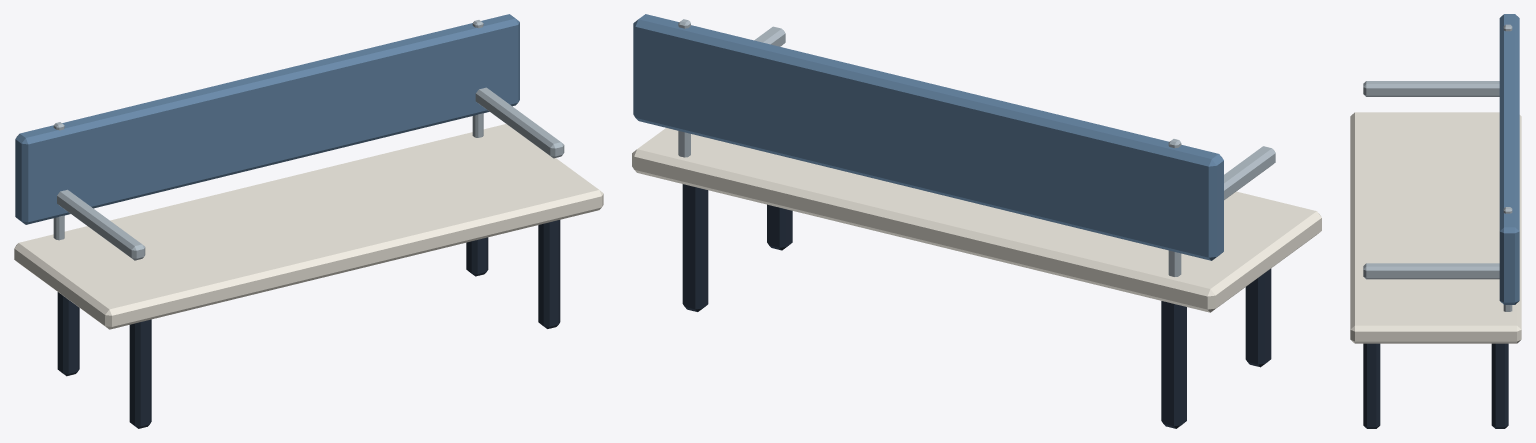
File: campus_12.glb
3 renders of one model, left to right at view 1: azimuth 30°, elevation 25°; view 2: azimuth 150°, elevation 25°; view 3: azimuth 270°, elevation 25°, orthographic. The views are drawn at different scales.
Visible parts, largest first — view 1: TableTop, GardenBack, Leg (×4), GardenArm (×2); view 2: GardenBack, TableTop, Leg (×4), GardenArm; view 3: TableTop, GardenBack, GardenArm (×2), Leg (×2).
Boxes of the visible parts, x1,y1,x2,y2 form: TableTop: (14, 124, 603, 329); GardenBack: (15, 14, 519, 224); Leg (×4): (57, 220, 560, 428); GardenArm (×2): (57, 87, 564, 260); GardenBack: (633, 14, 1223, 260); TableTop: (632, 128, 1321, 312); Leg (×4): (682, 184, 1271, 428); GardenArm: (1224, 146, 1275, 199); TableTop: (1350, 112, 1521, 343); GardenBack: (1499, 14, 1519, 304); GardenArm (×2): (1363, 81, 1499, 279); Leg (×2): (1363, 343, 1508, 428).
Bounding box in the file's own units: 1.8 × 0.855 × 0.6.
